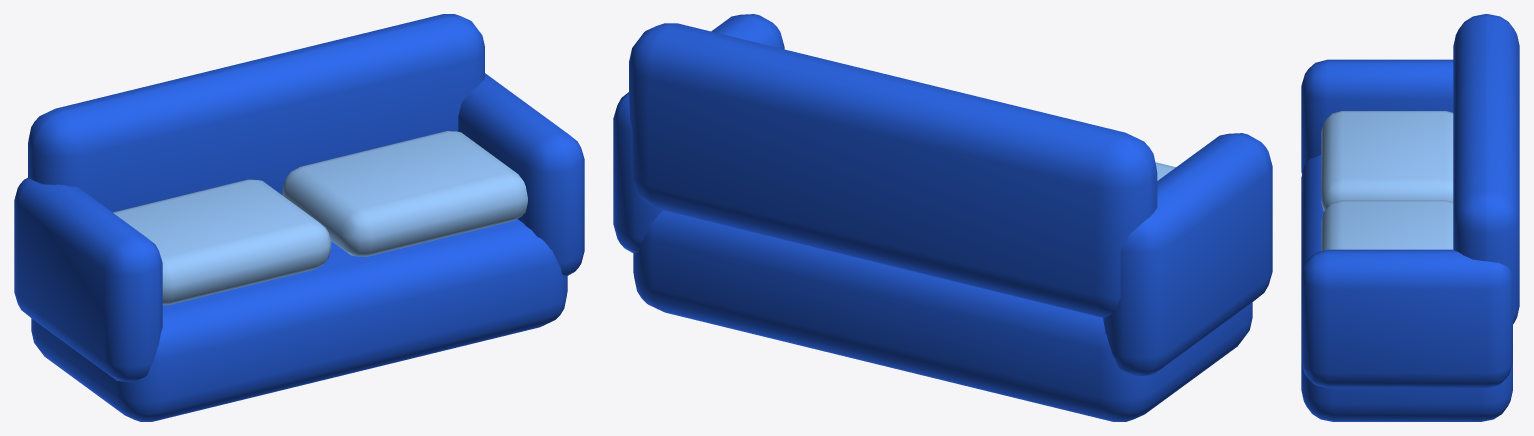
The model's file is sofa.glb.
3 views of the same model, side by side, from view 1: azimuth 30°, elevation 25°; view 2: azimuth 150°, elevation 25°; view 3: azimuth 270°, elevation 25° (orthographic). The views are drawn at different scales.
Visible parts, largest first — view 1: Back, Base, Arm-1, Pillow1, Pillow-1, Arm1; view 2: Back, Base, Arm-1, Arm1; view 3: Arm1, Back, Pillow-1, Base, Arm-1, Pillow1.
Boxes of the visible parts, x1,y1,x2,y2 form: Back: (28,14,484,212); Base: (31,219,567,421); Arm-1: (14,177,162,382); Pillow1: (282,131,527,256); Pillow-1: (113,179,331,305); Arm1: (458,73,584,275); Back: (629,23,1157,317); Base: (633,210,1252,421); Arm-1: (1103,133,1272,376); Arm1: (613,14,784,253); Arm1: (1301,249,1512,388); Back: (1453,14,1519,323); Pillow-1: (1321,111,1453,211); Base: (1301,155,1512,421); Arm-1: (1301,59,1453,173); Pillow1: (1321,200,1453,251).
Size of the model in its own units: 1.92 by 0.95 by 0.825.
